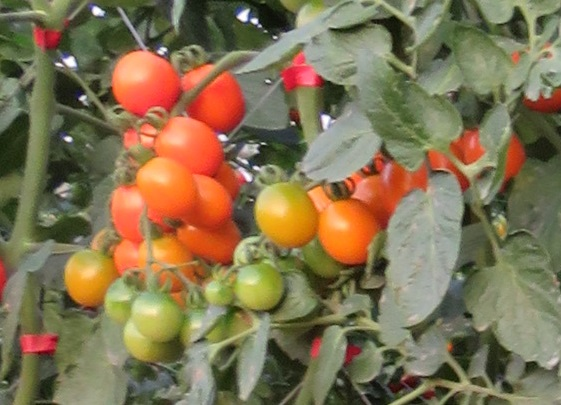green: (132, 288, 187, 340), (121, 323, 182, 363), (238, 265, 286, 309), (98, 276, 141, 321), (205, 280, 234, 307)
orange: (315, 195, 382, 267), (182, 60, 249, 132), (153, 115, 225, 179), (255, 179, 317, 251), (111, 50, 177, 112), (138, 157, 196, 222), (63, 248, 114, 309), (193, 167, 228, 226), (113, 183, 144, 243)
